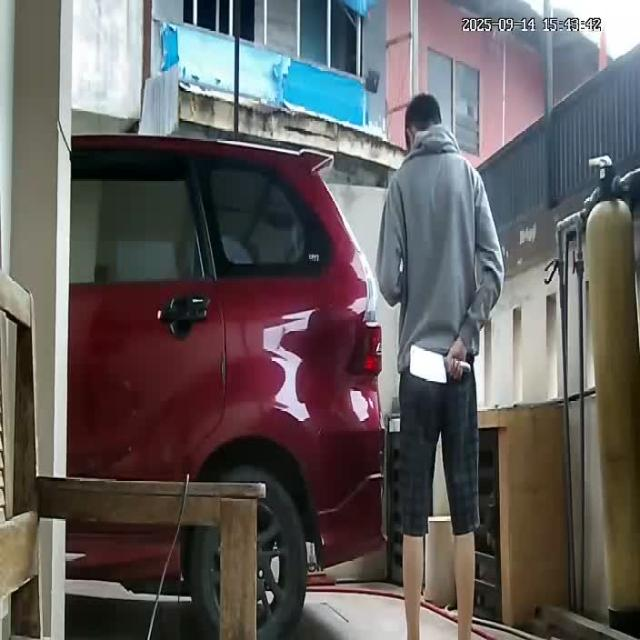senjata_tajam: (408, 341, 450, 388)
